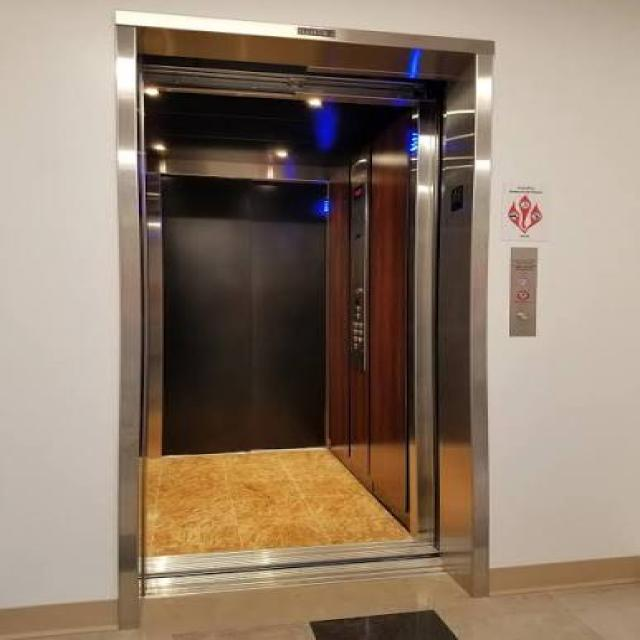elevator: (104, 0, 554, 627)
